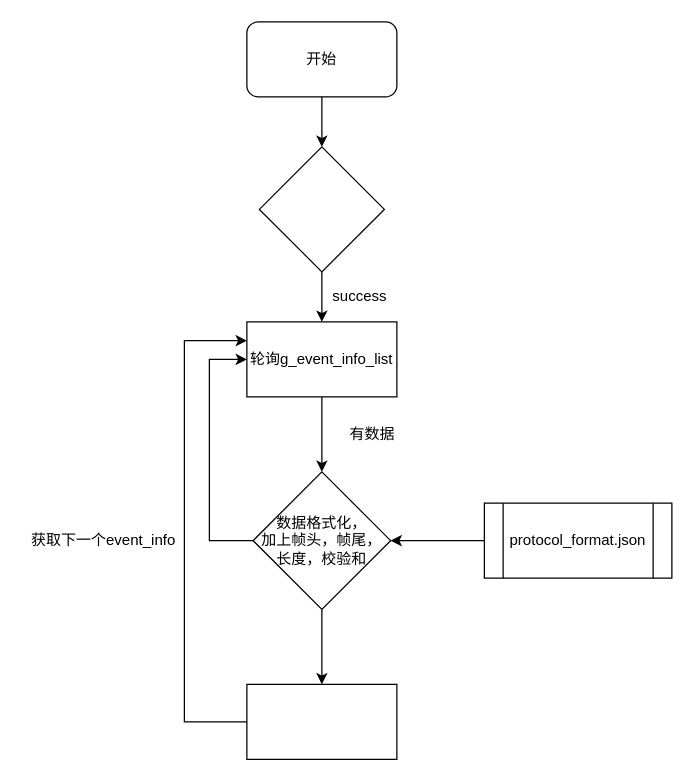
Some shapes in this 694 by 781 pixel diagram are drawn without their labels. The shapes that lost their labels are listed below. From the top down, each one's centre as x and y in pixels, then its label:
At point (321, 209): "解析format.json".
At point (321, 721): "根据port_id 写入相应的port".
